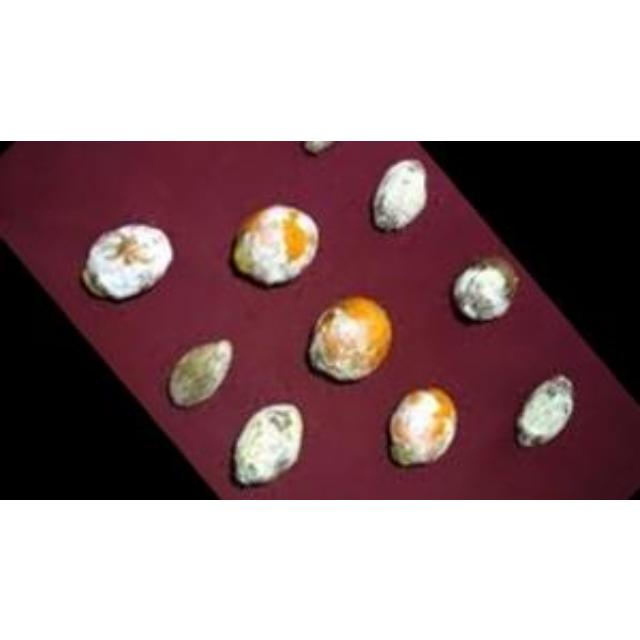damaged: (307, 294, 393, 381), (232, 202, 320, 286), (84, 222, 174, 300), (232, 402, 306, 486), (387, 386, 459, 466), (168, 337, 234, 408), (452, 254, 520, 320), (515, 375, 573, 447), (372, 156, 428, 230)
